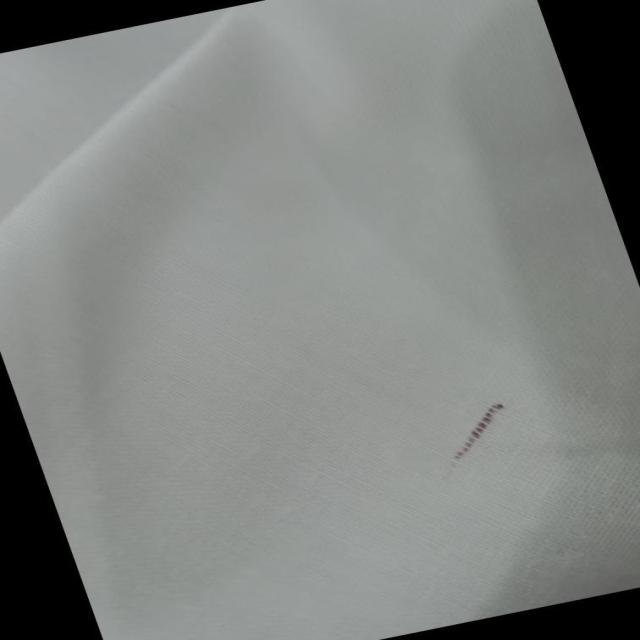contamination: (421, 393, 534, 476)
